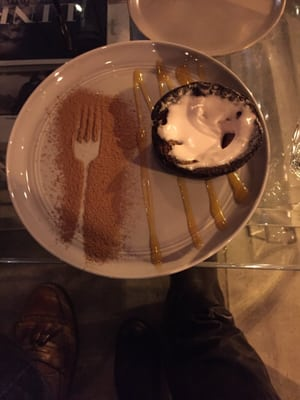burger: (72, 107, 102, 244)
sushi: (127, 0, 285, 57)
